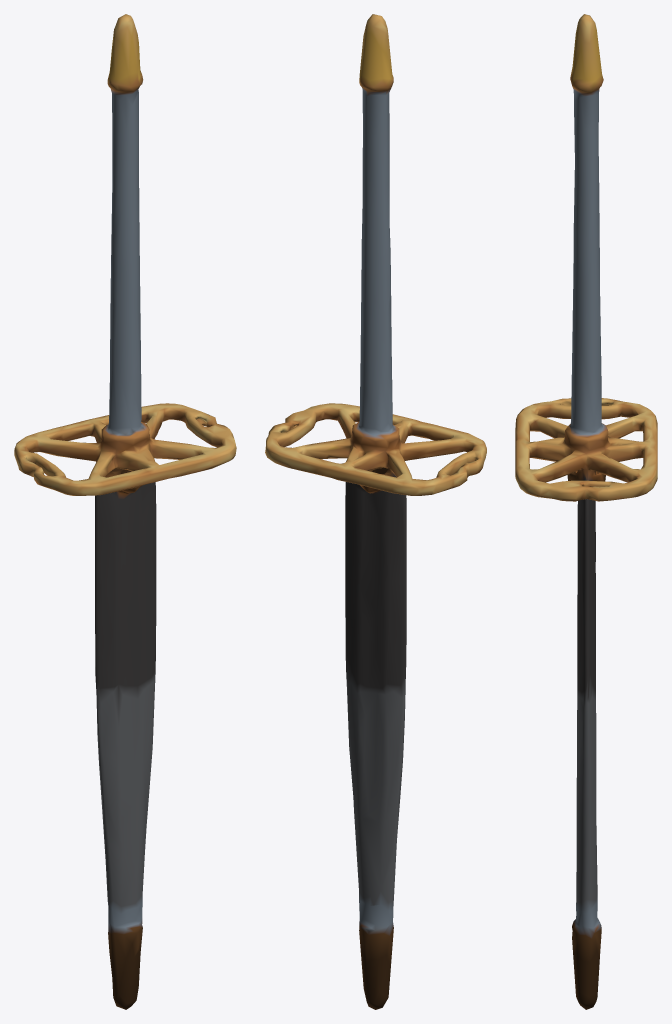
Rendered from gen3d-rapier-lod0.glb.
3 views of the same model, side by side, from view 1: azimuth 30°, elevation 25°; view 2: azimuth 150°, elevation 25°; view 3: azimuth 270°, elevation 25° (orthographic).
Parts seen in each view (by area): view 1: part_0; view 2: part_0; view 3: part_0.
Boxes of the visible parts, x1,y1,x2,y2 form: part_0: (14,14,236,1009); part_0: (265,14,486,1009); part_0: (515,14,657,1009).
Bounding box in the file's own units: 0.2037 × 0.9996 × 0.1301.
